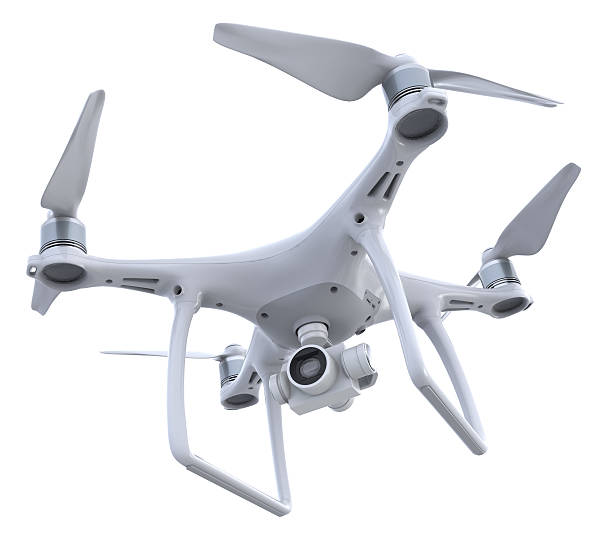Drone: (17, 14, 588, 518)
